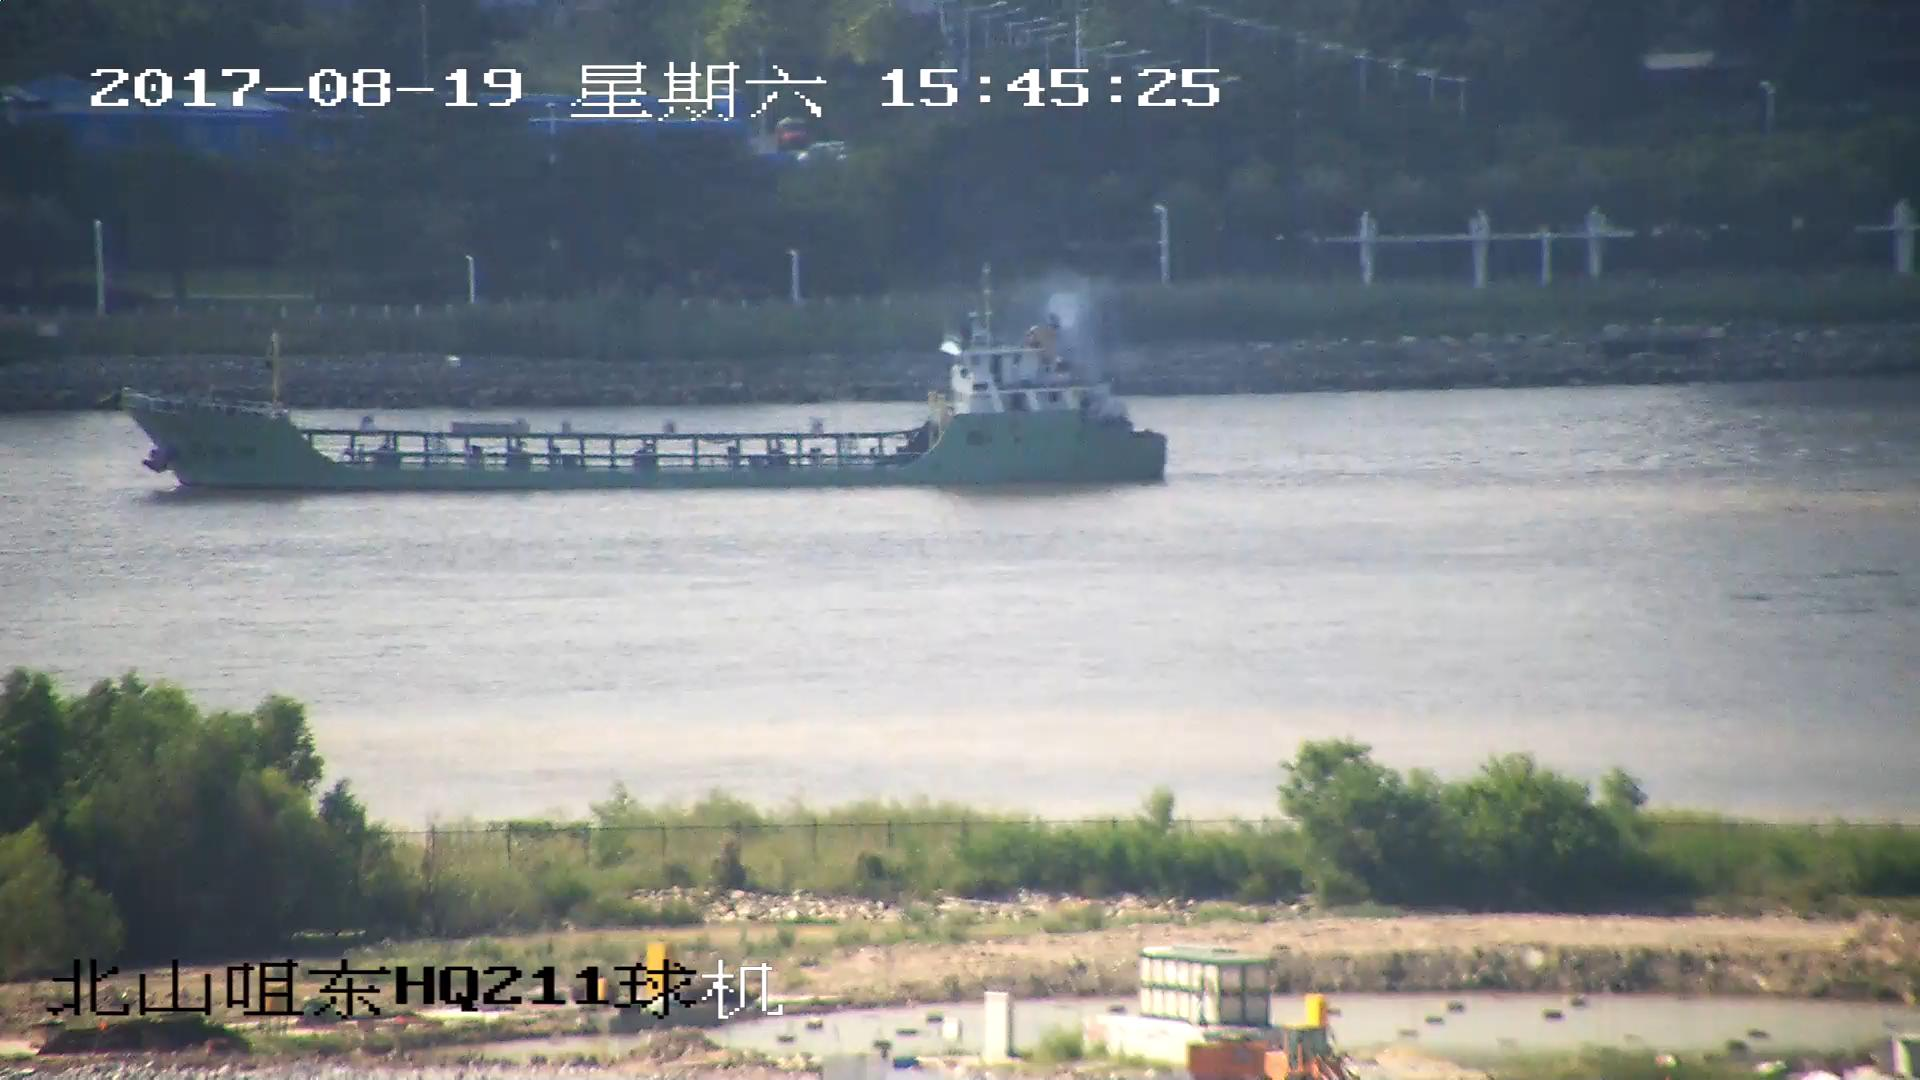general cargo ship: (127, 265, 1172, 488)
